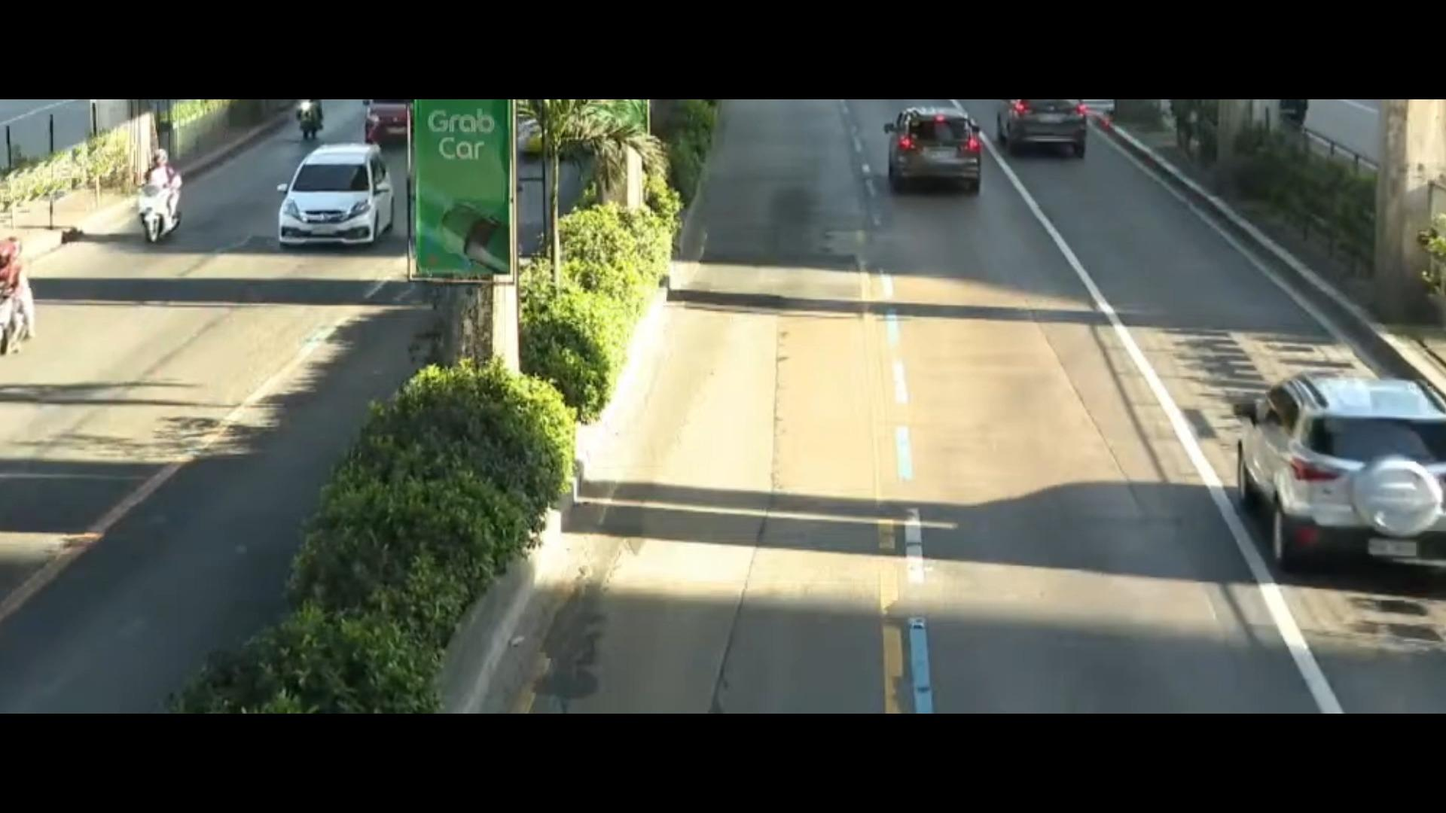Motorcycle: (126, 125, 211, 258), (0, 238, 57, 358), (274, 91, 328, 130)
SUV: (1196, 341, 1446, 590), (280, 142, 413, 270), (881, 104, 1000, 202)
